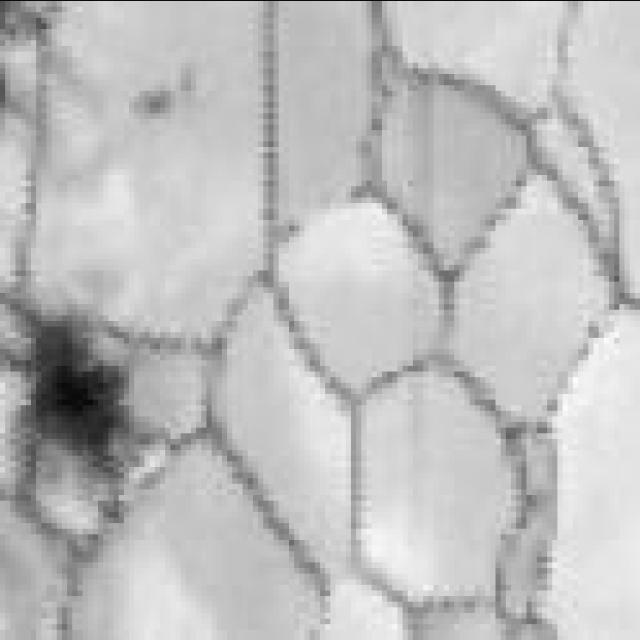good_void: (17, 308, 137, 526), (132, 84, 174, 119)
